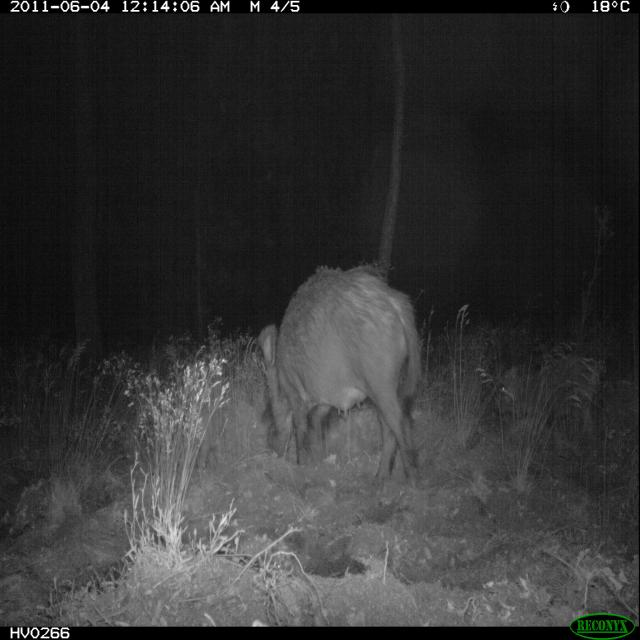boar: (213, 255, 449, 463)
